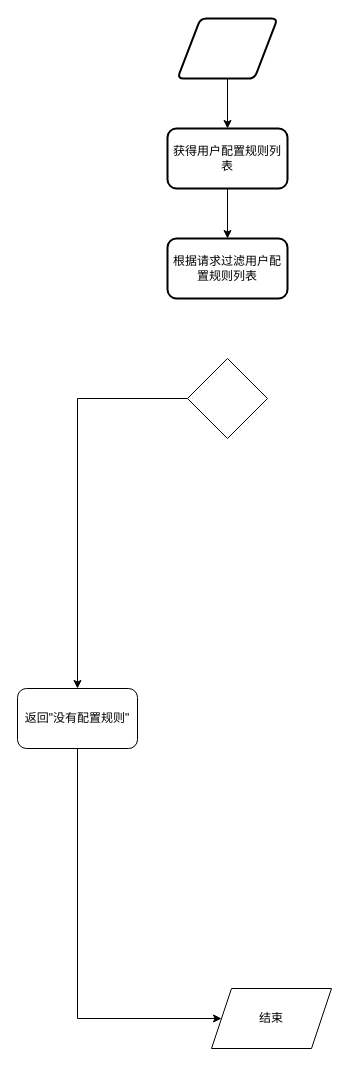
Image size: 349x1066. Some labels were removed from this diagram. The centre of each missing label's shape, as x and y in pixels:
sendNotice: (x=227, y=48)
规则列表为空: (x=227, y=398)
